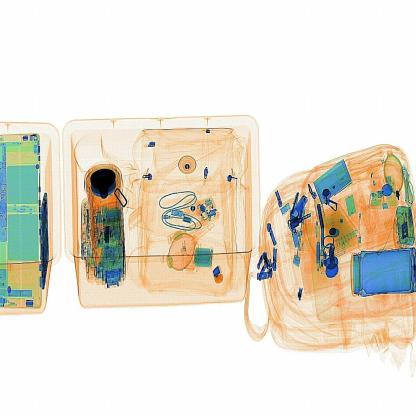wrench: (209, 264, 229, 287)
